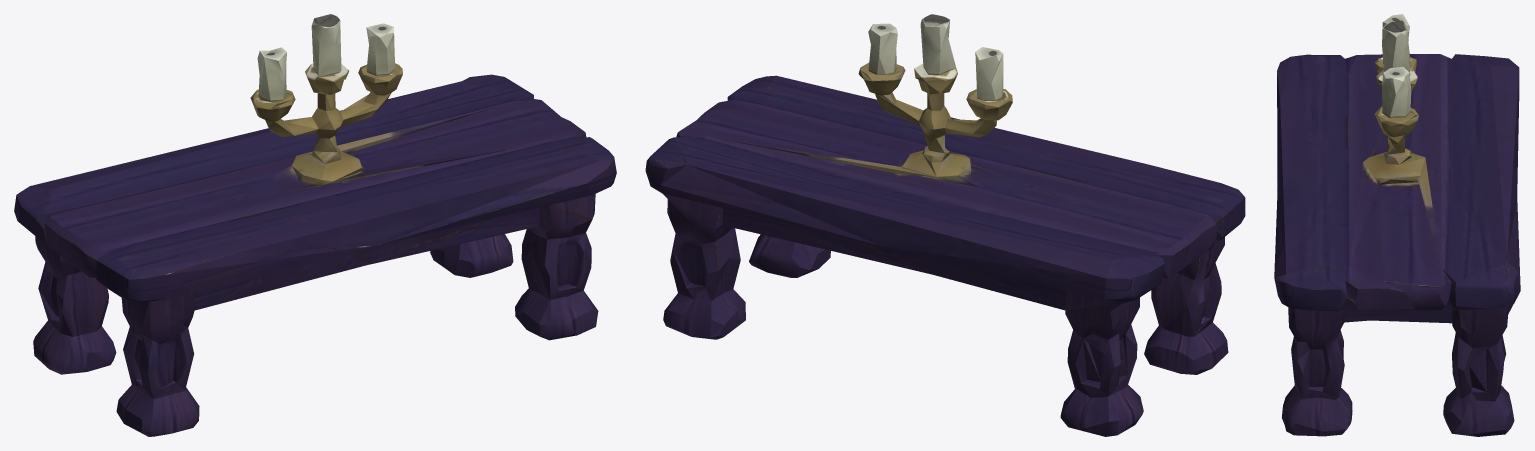
The model's file is dining_table.glb.
The picture shows the model from 3 angles, left to right: view 1: azimuth 30°, elevation 25°; view 2: azimuth 150°, elevation 25°; view 3: azimuth 270°, elevation 25°; orthographic projection. The views are drawn at different scales.
Size of the model in its own units: 1.9 by 1.17 by 0.8416.
1 material, 1 textured.
